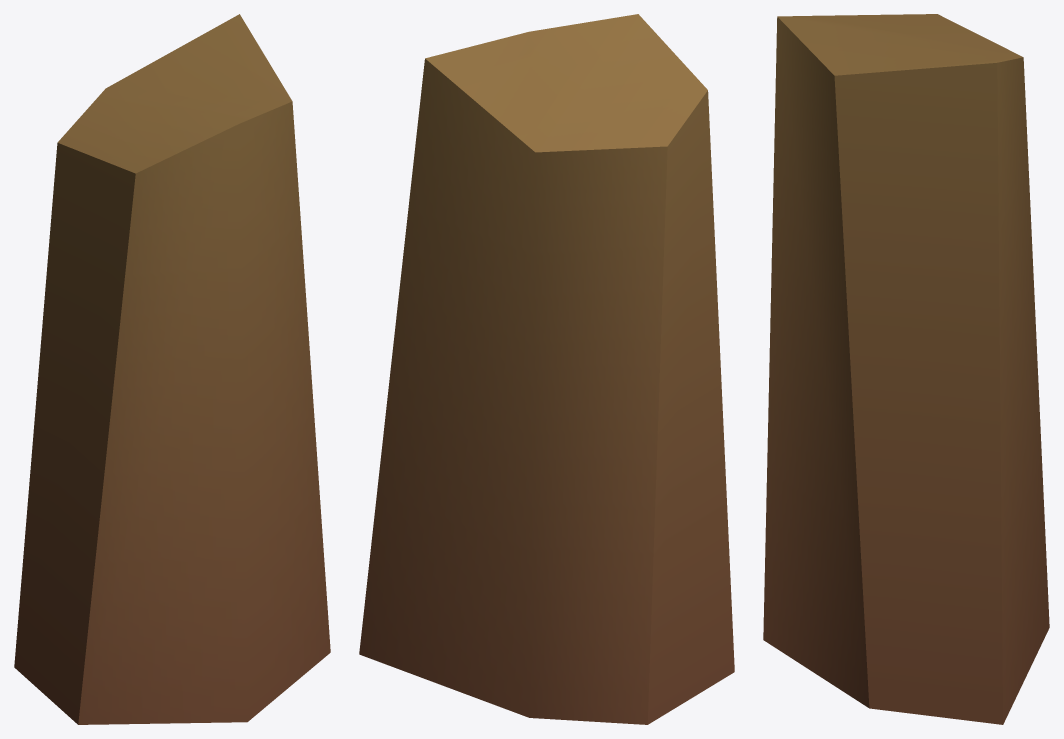
Rendered from Cliff003.glb.
3 renders of one model, left to right at view 1: azimuth 30°, elevation 25°; view 2: azimuth 150°, elevation 25°; view 3: azimuth 270°, elevation 25°, orthographic. The views are drawn at different scales.
Parts seen in each view (by area): view 1: Cliff003; view 2: Cliff003; view 3: Cliff003.
Part boxes in pixels (left/top/right/bottom): Cliff003: left=14, top=14, right=330, bottom=724; Cliff003: left=359, top=14, right=734, bottom=724; Cliff003: left=763, top=14, right=1049, bottom=724.
Bounding box in the file's own units: 514 × 998 × 411.
Materials: 1 (1 with a texture image).
